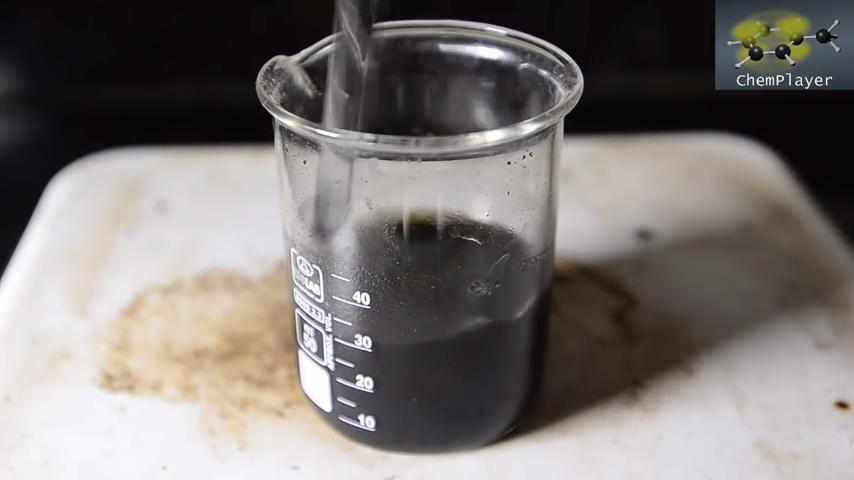Beaker: (253, 21, 620, 457)
